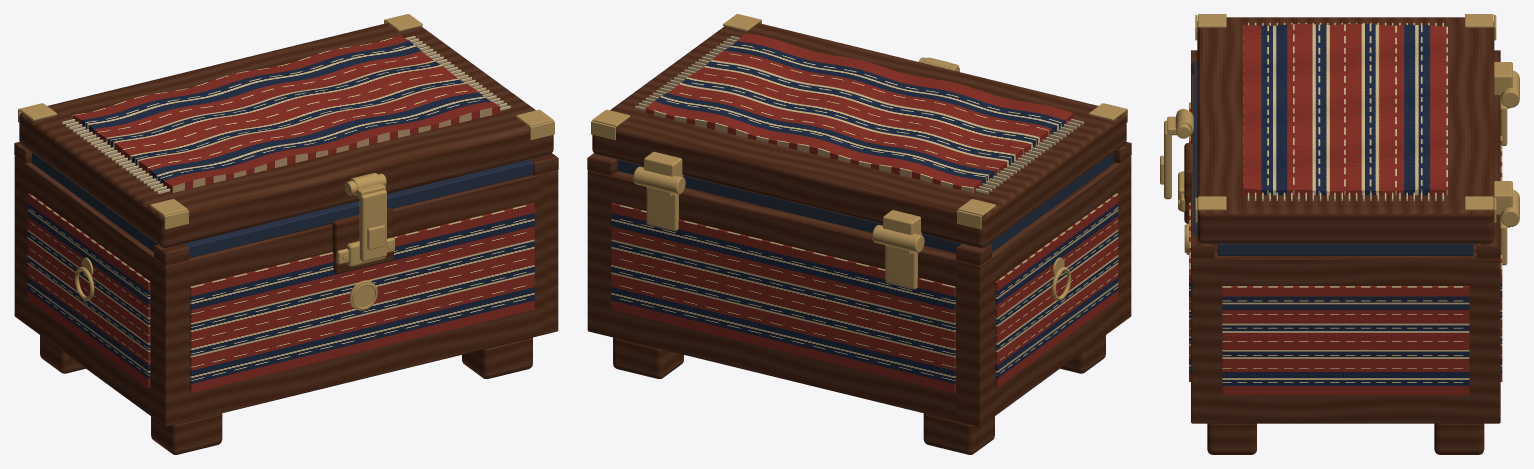
The model's file is timor-leste.glb.
The picture shows the model from 3 angles, left to right: view 1: azimuth 30°, elevation 25°; view 2: azimuth 150°, elevation 25°; view 3: azimuth 270°, elevation 25°; orthographic projection. The views are drawn at different scales.
Parts seen in each view (by area): view 1: Cloth / long panel, Runner / waved textile, Lid / polished slab, Frame / long, Frame / end, Cloth / end panel, Seam / long, Frame / end.001, Foot / timber, Foot / timber.002, Frame / long.001, Latch / lifting hasp (+5 smaller); view 2: Cloth / long panel.001, Runner / waved textile, Lid / polished slab, Frame / long.001, Frame / end, Cloth / end panel, Frame / end.001, Seam / long.001, Foot / timber.001, Foot / timber.003, Seam / side, Hinge / fixed mount.001 (+7 smaller); view 3: Runner / waved textile, Lid / polished slab, Cloth / end panel.001, Frame / end.001, Seam / side.001, Frame / long.001, Frame / long, Foot / timber.003, Foot / timber.002, Seam / long, Frame / clasp seat, Latch / lifting hasp (+12 smaller).
Boxes of the visible parts, box(x1,y1,x2,y2) form: Cloth / long panel: box(190, 203, 534, 393); Runner / waved textile: box(72, 35, 500, 192); Lid / polished slab: box(19, 23, 553, 247); Frame / long: box(155, 173, 556, 426); Frame / end: box(14, 157, 188, 426); Cloth / end panel: box(27, 193, 150, 387); Seam / long: box(184, 159, 533, 257); Frame / end.001: box(535, 170, 558, 336); Foot / timber: box(151, 413, 222, 454); Foot / timber.002: box(462, 337, 532, 378); Frame / long.001: box(14, 156, 24, 323); Latch / lifting hasp: box(359, 190, 386, 261); Cloth / long panel.001: box(611, 203, 955, 393); Runner / waved textile: box(645, 33, 1073, 192); Lid / polished slab: box(592, 23, 1126, 247); Frame / long.001: box(610, 171, 991, 426); Frame / end: box(957, 157, 1130, 426); Cloth / end panel: box(995, 193, 1118, 387); Frame / end.001: box(587, 170, 610, 336); Seam / long.001: box(617, 159, 961, 253); Foot / timber.001: box(923, 413, 994, 454); Foot / timber.003: box(613, 337, 683, 378); Seam / side: box(988, 152, 1113, 251); Hinge / fixed mount.001: box(646, 187, 678, 231); Runner / waved textile: box(1243, 23, 1447, 195); Lid / polished slab: box(1197, 17, 1494, 243); Cloth / end panel.001: box(1222, 286, 1469, 395); Frame / end.001: box(1191, 251, 1500, 423); Seam / side.001: box(1218, 243, 1473, 255); Frame / long.001: box(1478, 95, 1500, 423); Frame / long: box(1191, 74, 1213, 422); Foot / timber.003: box(1434, 423, 1484, 454); Foot / timber.002: box(1207, 423, 1256, 454); Seam / long: box(1193, 62, 1197, 234); Frame / clasp seat: box(1184, 143, 1193, 223); Latch / lifting hasp: box(1164, 120, 1171, 199).
Size of the model in its own units: 3.8 by 2.31 by 2.88.
Materials: 5 (2 with a texture image).
